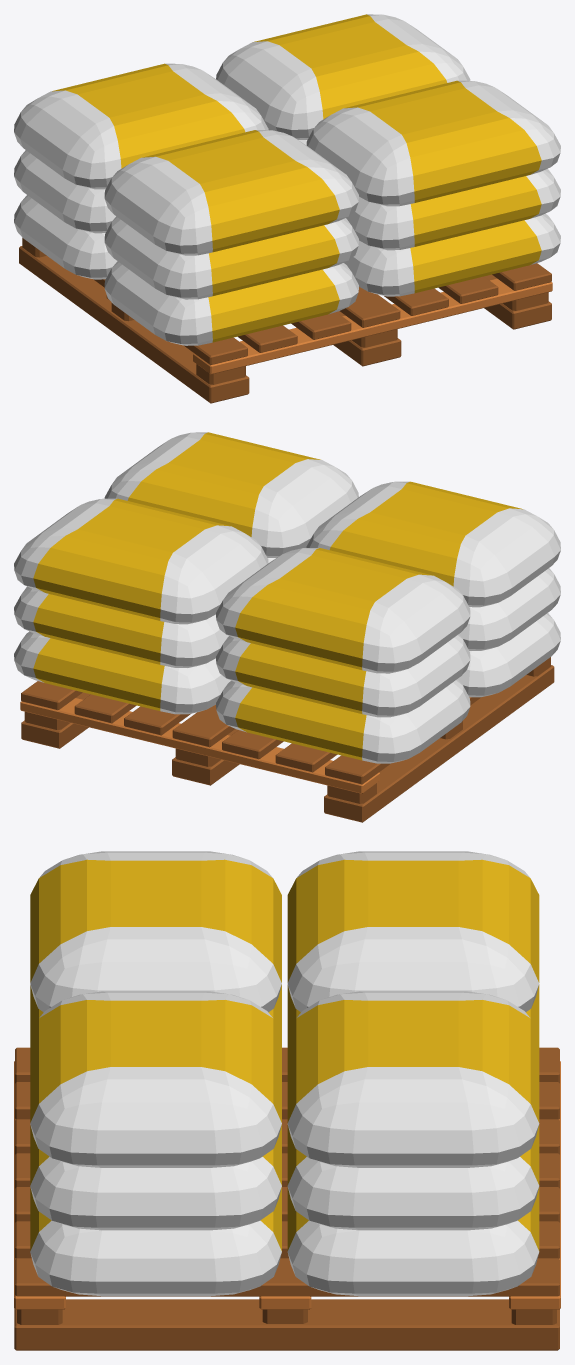
The model's file is Cement Bag B.fbx.
The picture shows the model from 3 angles, top to bottom: view 1: azimuth 30°, elevation 25°; view 2: azimuth 150°, elevation 25°; view 3: azimuth 270°, elevation 25°; orthographic projection. The views are drawn at different scales.
Parts seen in each view (by area): view 1: Cement Bag B; view 2: Cement Bag B; view 3: Cement Bag B.
Part boxes in pixels (x1=…): Cement Bag B: x1=14, y1=14, x2=560, y2=403; Cement Bag B: x1=14, y1=432, x2=560, y2=822; Cement Bag B: x1=14, y1=851, x2=560, y2=1350.
Size of the model in its own units: 280 by 126 by 232.
